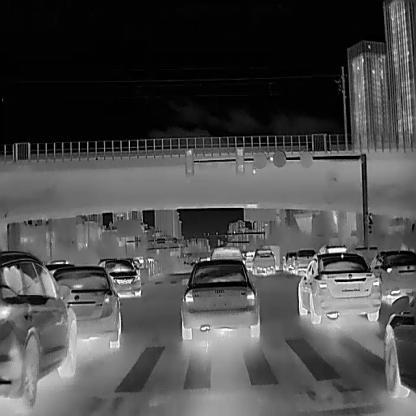car: (0, 250, 77, 409), (181, 258, 259, 339), (51, 265, 121, 348), (298, 253, 380, 323), (385, 294, 416, 397), (370, 249, 416, 307), (102, 259, 140, 297), (251, 247, 275, 274), (292, 248, 315, 273), (260, 244, 279, 270), (210, 247, 243, 258), (317, 243, 349, 254), (282, 251, 296, 272)
